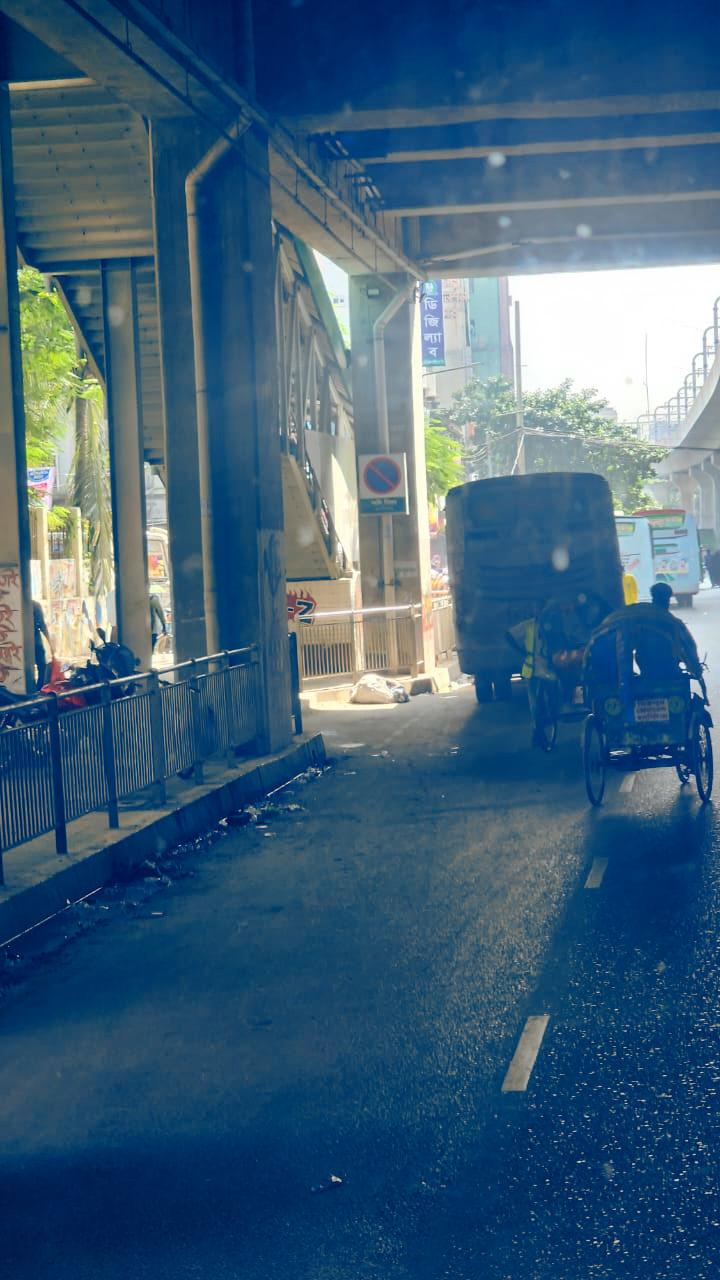No Parking: (358, 453, 407, 508)
